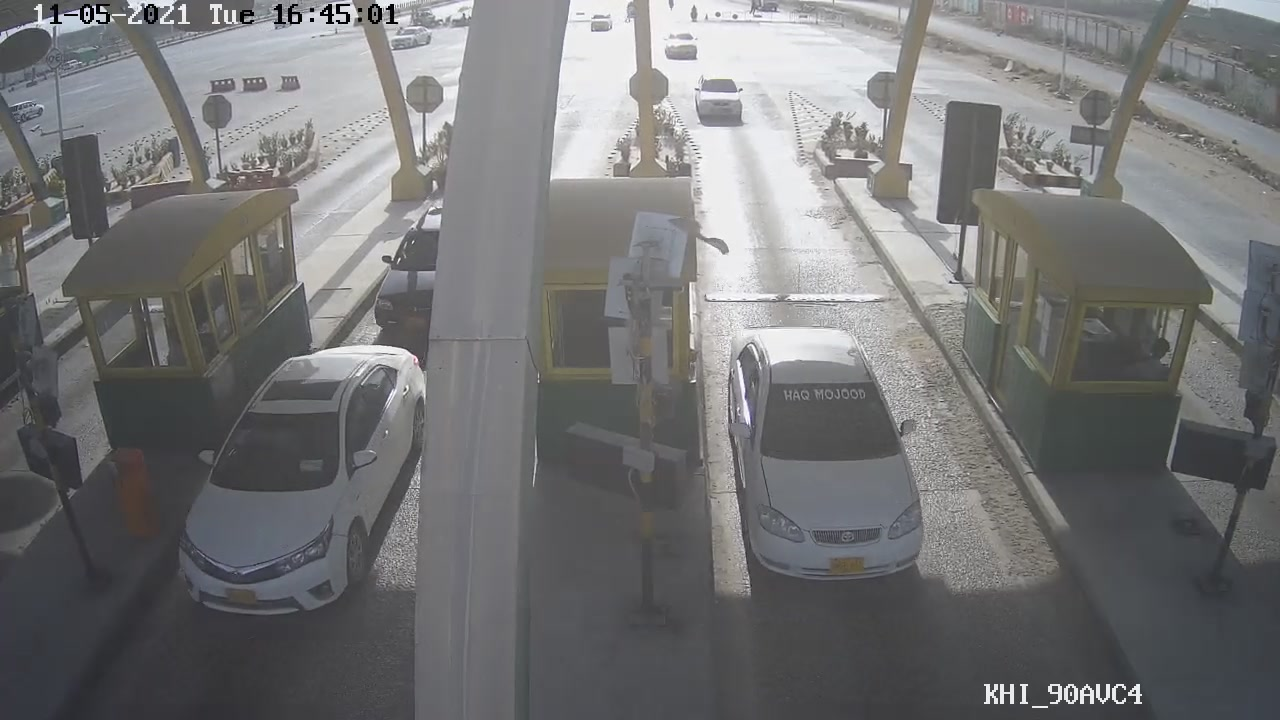F1: (717, 320, 931, 586)
